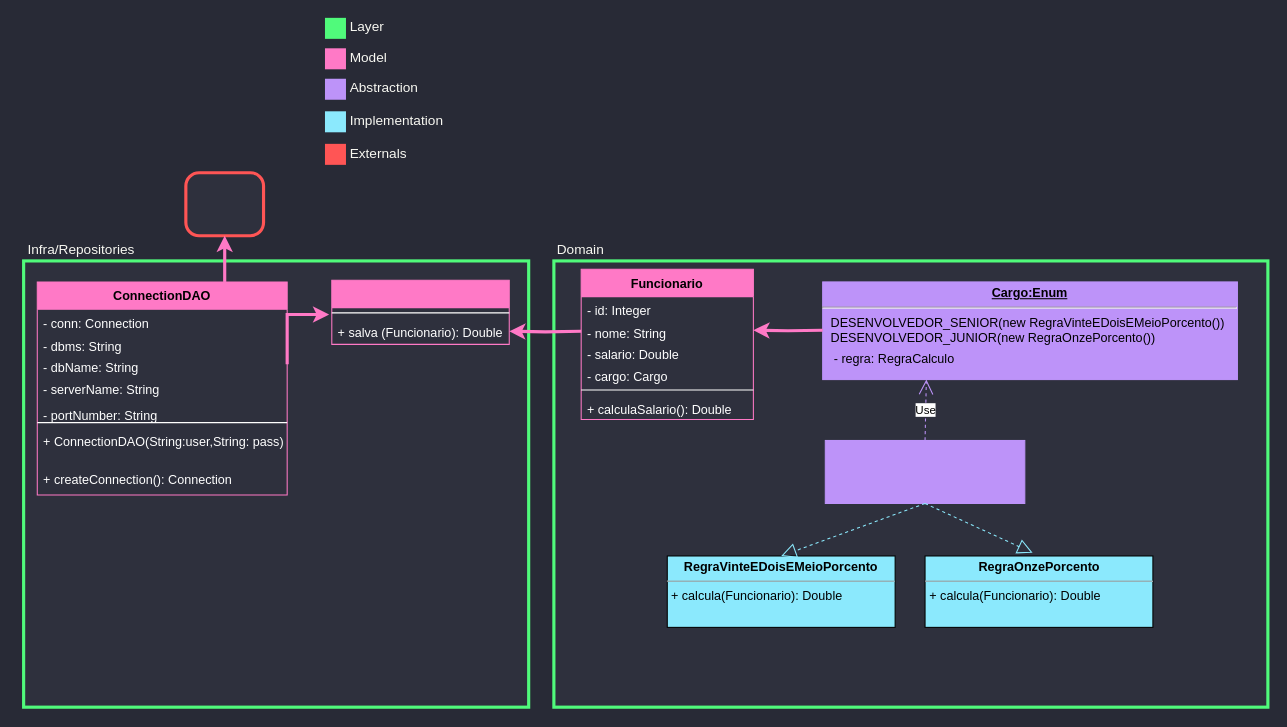
Some shapes in this 1287 by 727 pixel diagram are drawn without their labels. The box of each missing label's shape, as (x1, y1, x2, y2) in pixels:
<<Interface>> RegraCalculo + calcula(Funcionario): Double: (824, 439, 1025, 503)
FuncionarioDAO: (331, 279, 509, 344)
MySQL: (184, 171, 265, 237)
